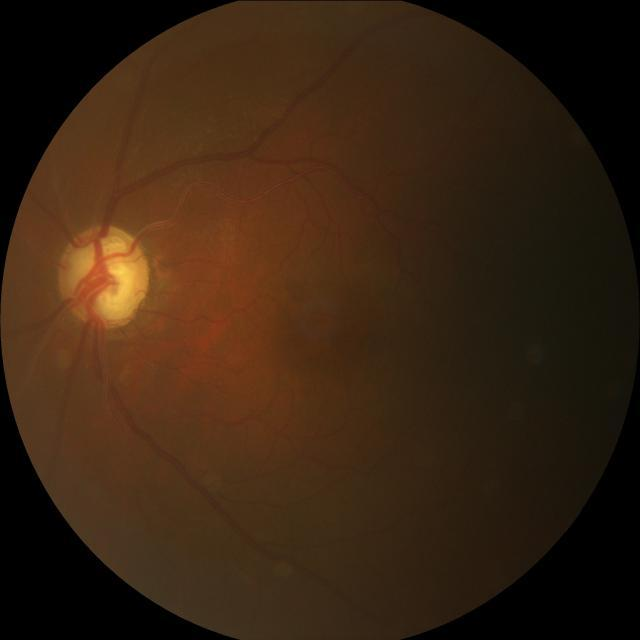OC: (68, 234, 138, 314)
OD: (56, 222, 149, 328)
